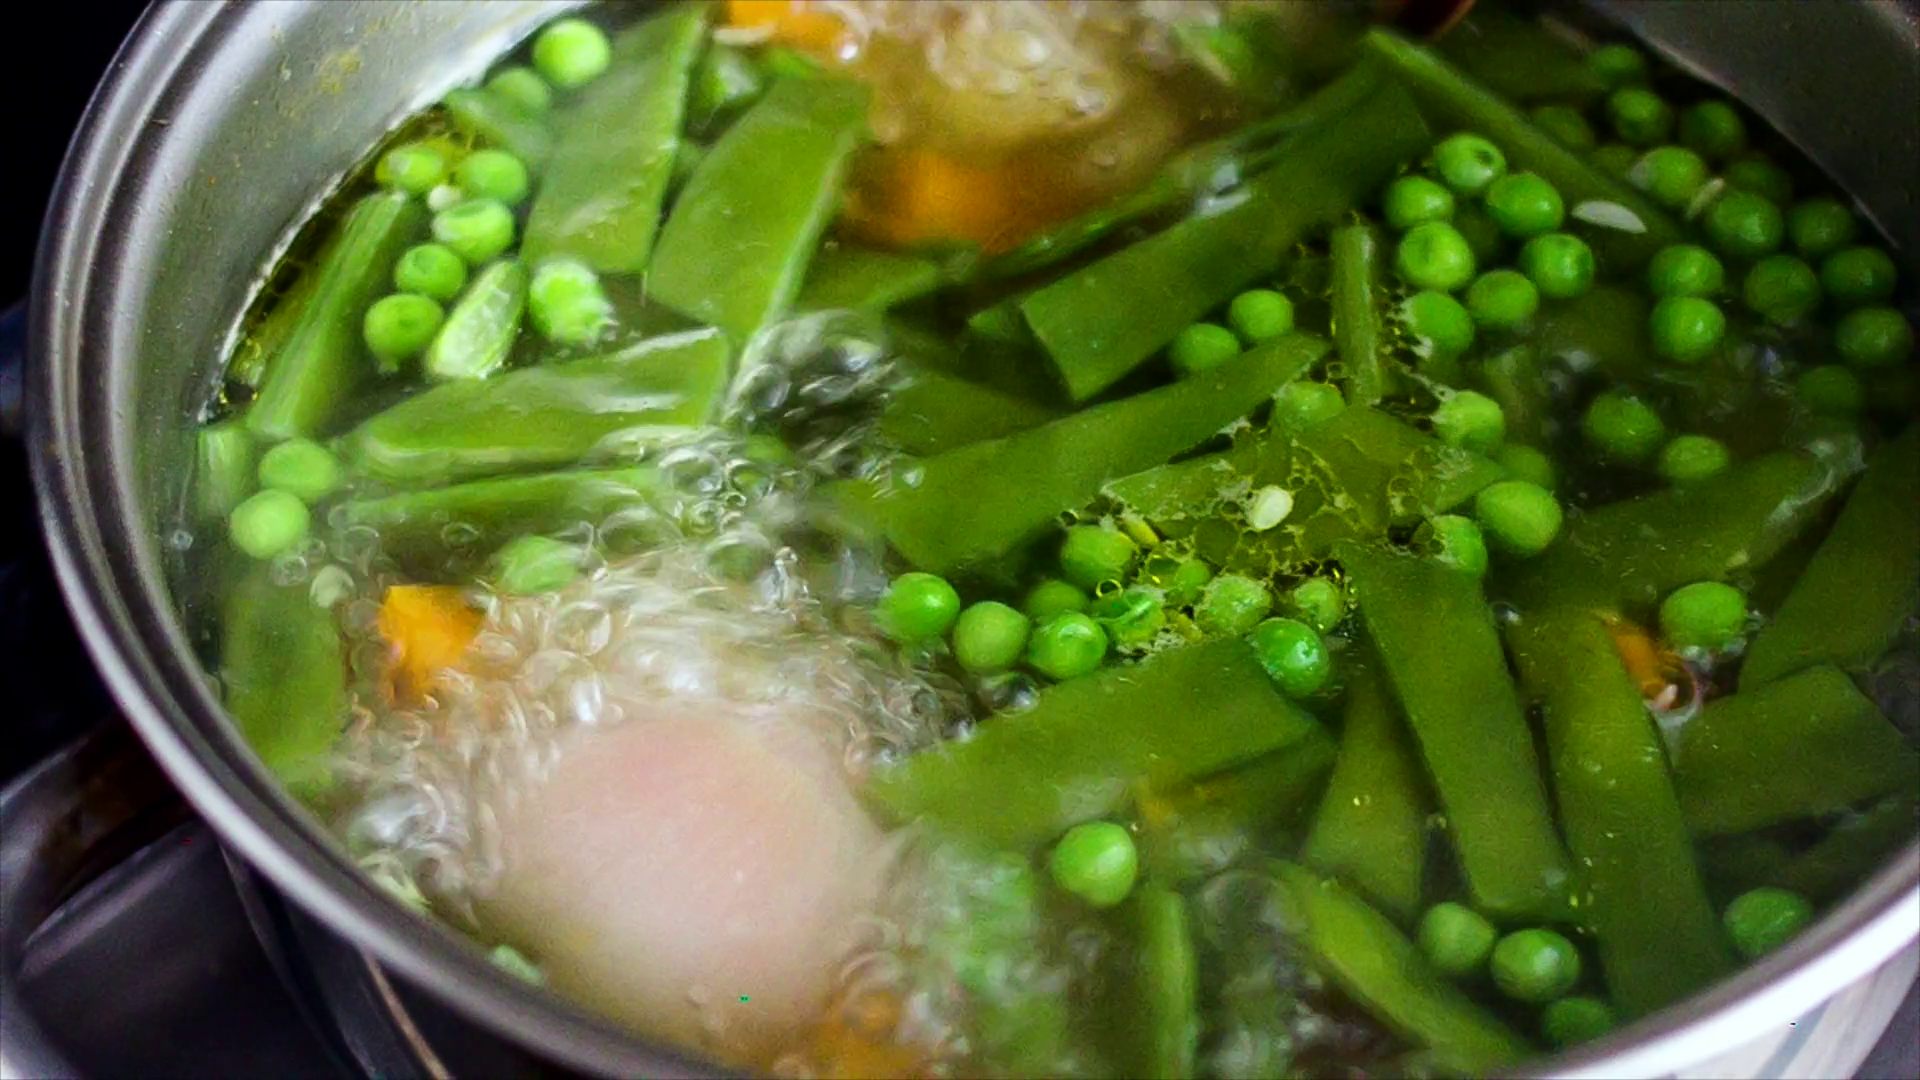boiled peas: (764, 179, 1913, 964)
